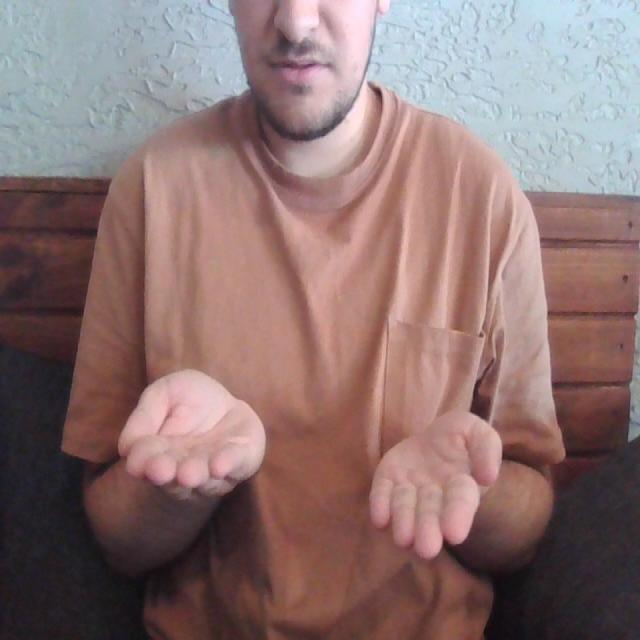Evet: (113, 361, 509, 563)
